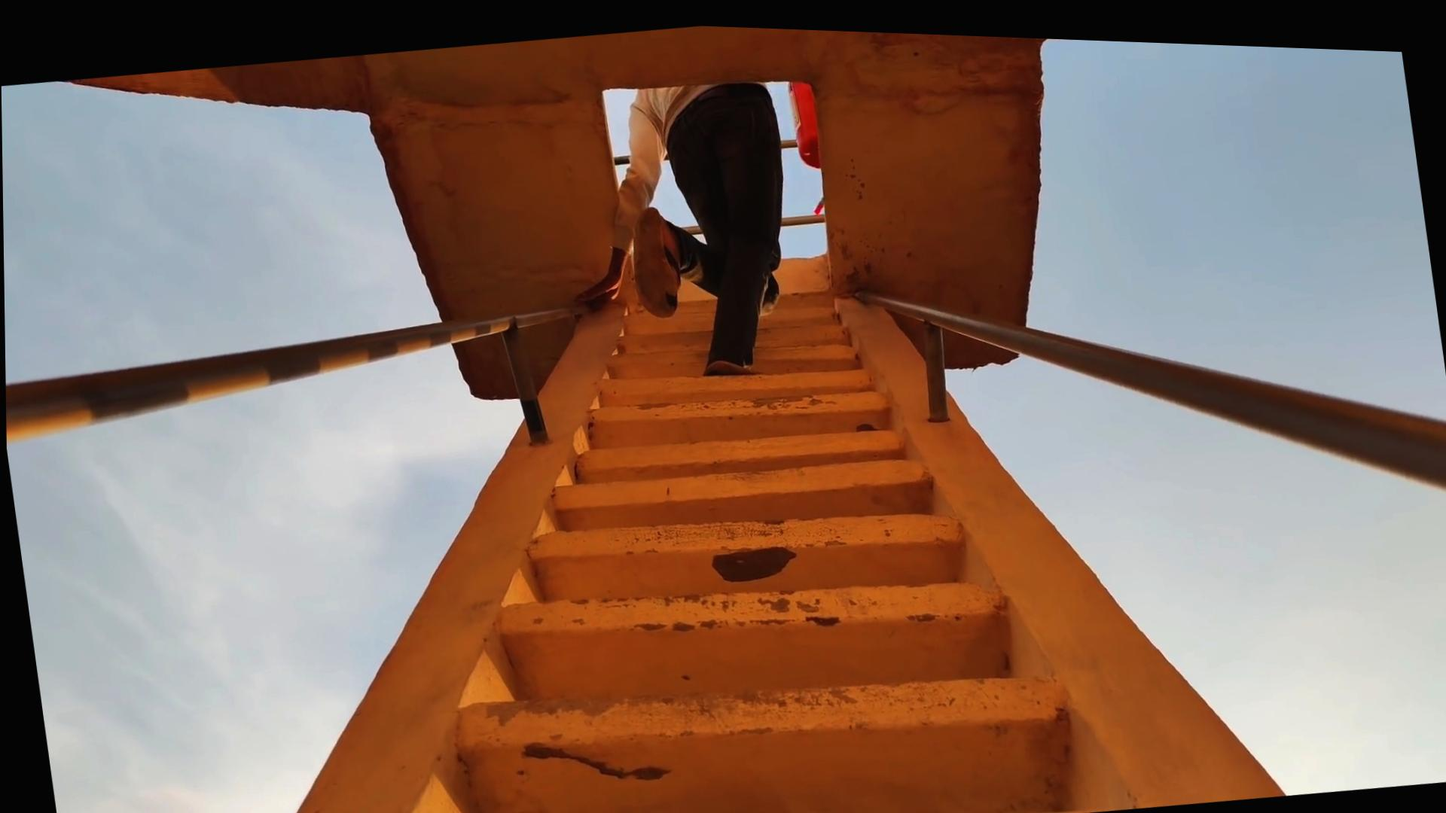FireExtinguisher: (778, 61, 844, 163)
